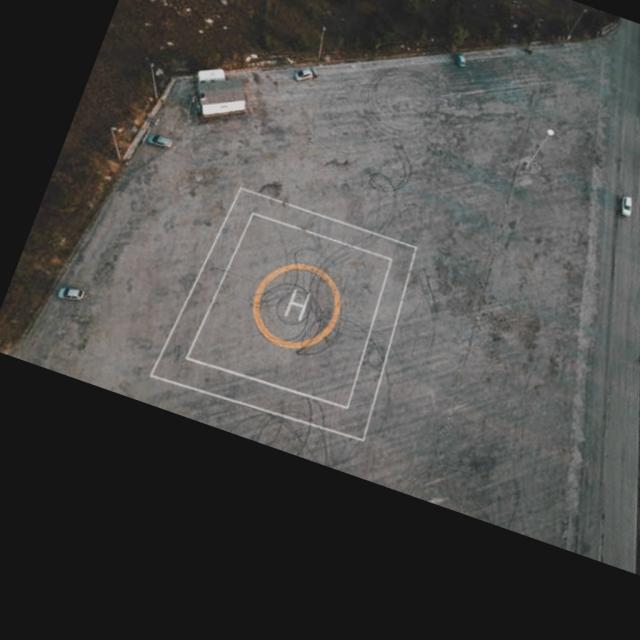helipad: (248, 260, 342, 351)
